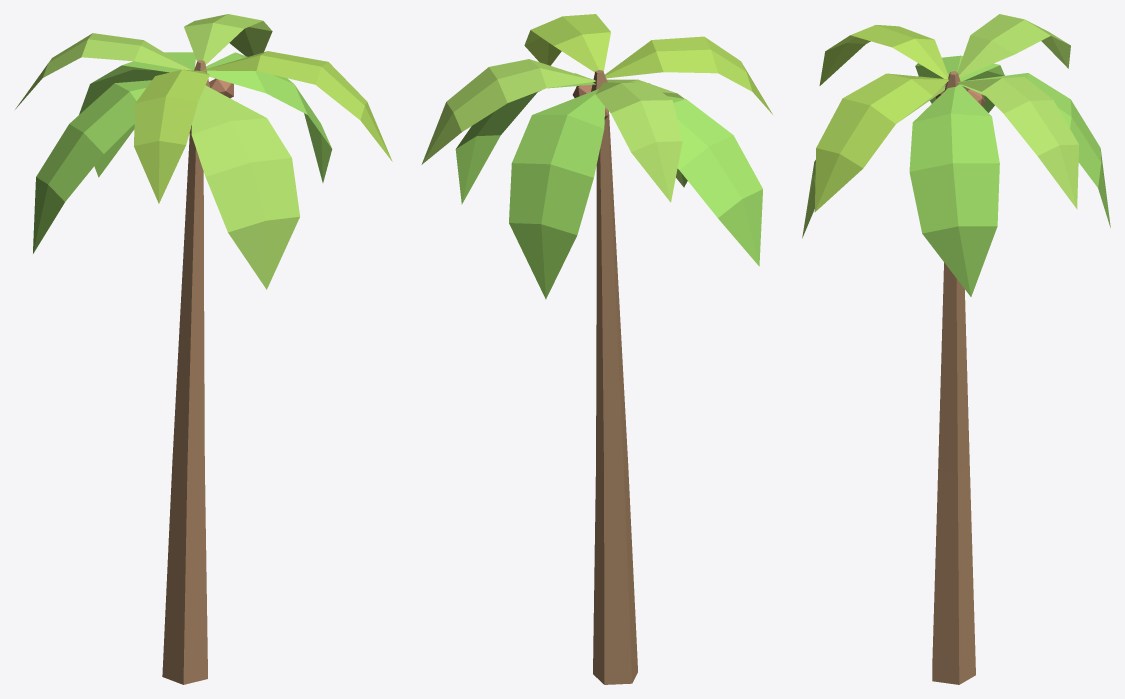
File: Palm_Tree_Coconut_m_01_LOD.fbx
3 renders of one model, left to right at view 1: azimuth 30°, elevation 25°; view 2: azimuth 150°, elevation 25°; view 3: azimuth 270°, elevation 25°, orthographic.
Visible parts, largest first — view 1: Palm_Tree_Coconut_m_01_LOD0; view 2: Palm_Tree_Coconut_m_01_LOD0; view 3: Palm_Tree_Coconut_m_01_LOD0.
Part boxes in pixels (x1,y1,x2,y2): Palm_Tree_Coconut_m_01_LOD0: [15, 14, 392, 684]; Palm_Tree_Coconut_m_01_LOD0: [421, 14, 772, 684]; Palm_Tree_Coconut_m_01_LOD0: [802, 14, 1110, 684].
Size of what is drawn, in the model's own units: 298 by 601 by 269.
